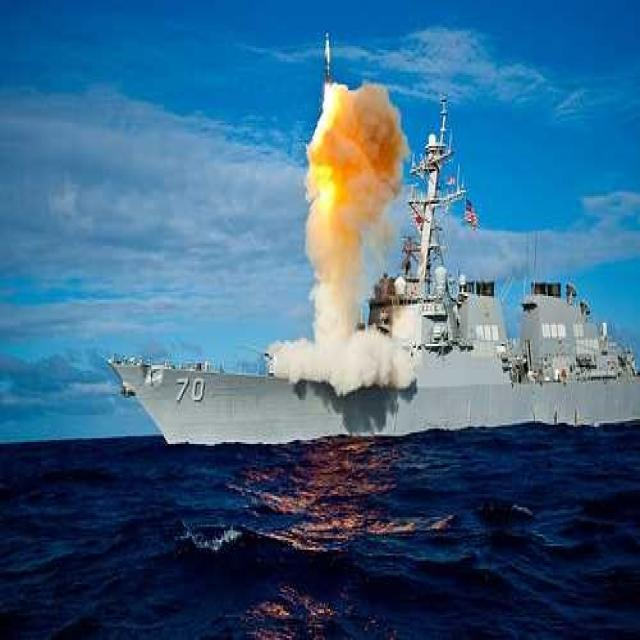missile: (318, 27, 335, 88)
